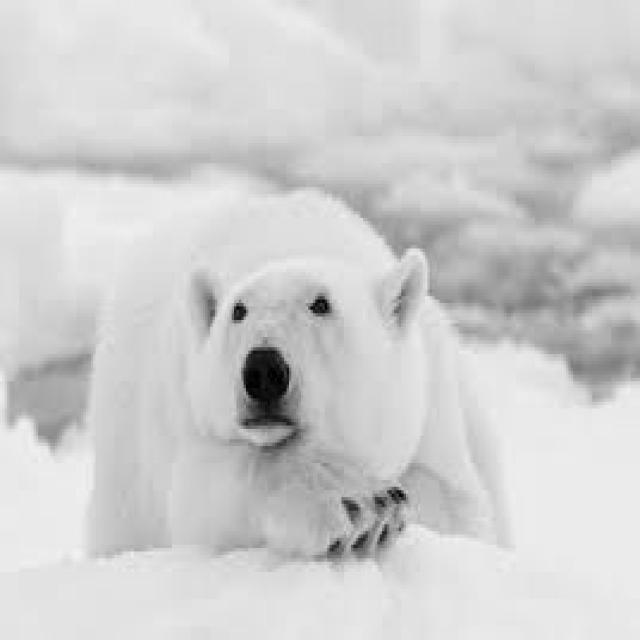Bear: (102, 185, 472, 589)
